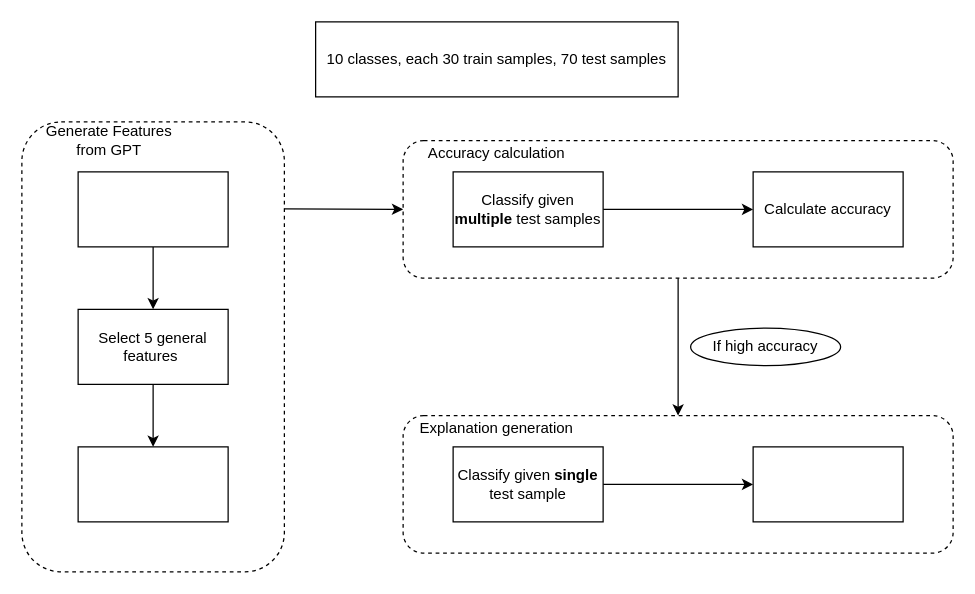
This 975x594 diagram has some shape labels left out. The shapes that lost their labels are listed below. From the top down, each one's centre as x and y in pixels, then its label:
At (152,209): "Generate 10 features of each class from ChatGPT".
At (152,484): "Ask GPT to generate these features with quantification".
At (827,484): "Generate explanation".
